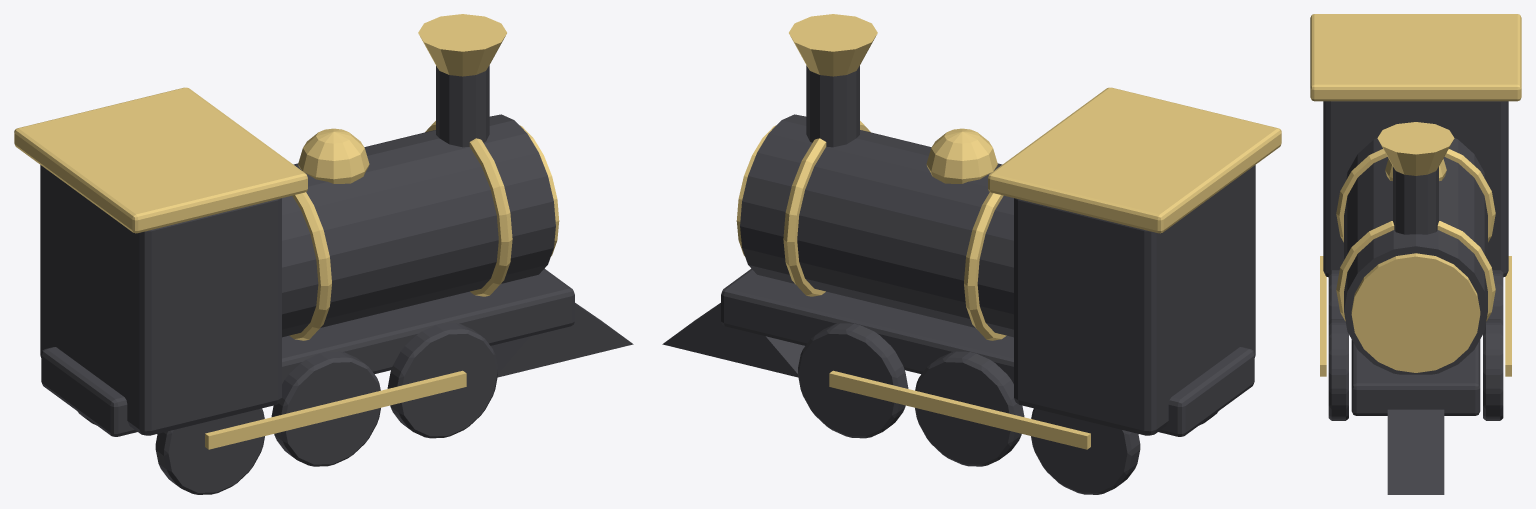
The model's file is Locomotive.fbx.
The picture shows the model from 3 angles, left to right: view 1: azimuth 30°, elevation 25°; view 2: azimuth 150°, elevation 25°; view 3: azimuth 270°, elevation 25°; orthographic projection. The views are drawn at different scales.
Parts seen in each view (by area): view 1: Body.002, Trim.001; view 2: Body.002, Trim.001; view 3: Body.002, Trim.001.
Boxes of the visible parts, x1,y1,x2,y2 form: Body.002: [40, 65, 633, 494]; Trim.001: [14, 14, 559, 449]; Body.002: [662, 65, 1255, 494]; Trim.001: [736, 14, 1281, 449]; Body.002: [1323, 101, 1508, 494]; Trim.001: [1310, 14, 1521, 376].
Size of the model in its own units: 2.11 by 1.31 by 0.82.
